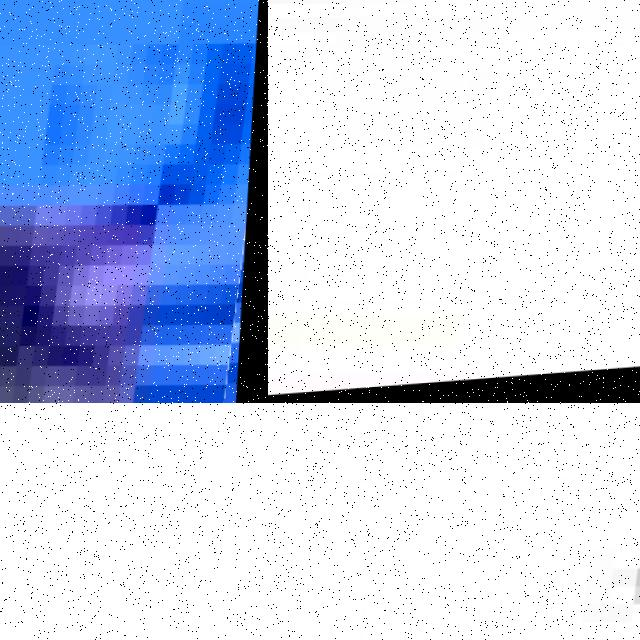drone: (268, 0, 640, 403), (0, 0, 268, 403), (268, 403, 640, 640)
